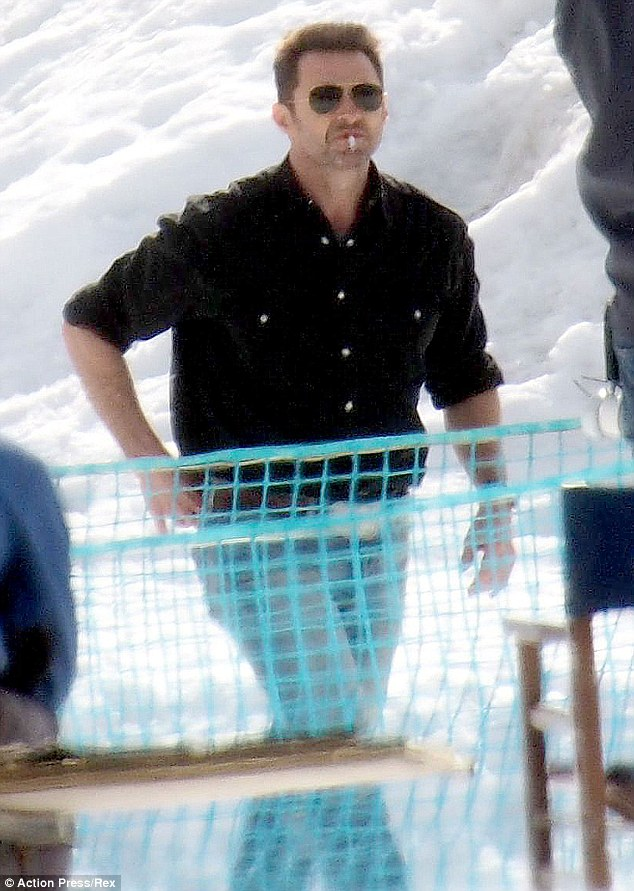cigarette: (341, 129, 361, 160)
